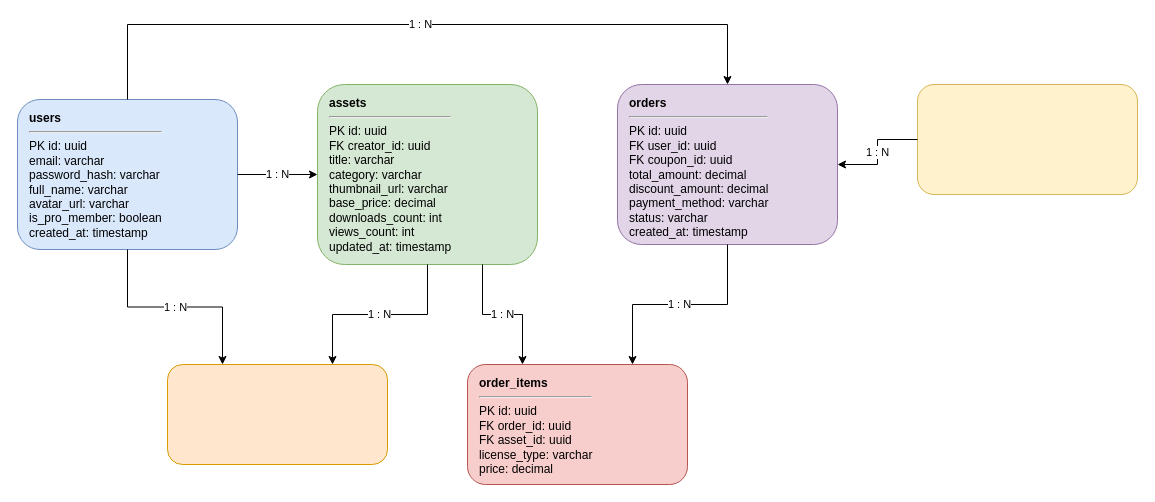
Image size: 1155x502. Some labels were removed from this diagram. The box of each missing label's shape, as (x1, y1, x2, y2) in pixels:
coupons PK id: uuid code: varchar discount_value: decimal expires_at: timestamp: (916, 84, 1138, 194)
saved_assets PK,FK user_id: uuid PK,FK asset_id: uuid created_at: timestamp: (166, 364, 388, 464)
